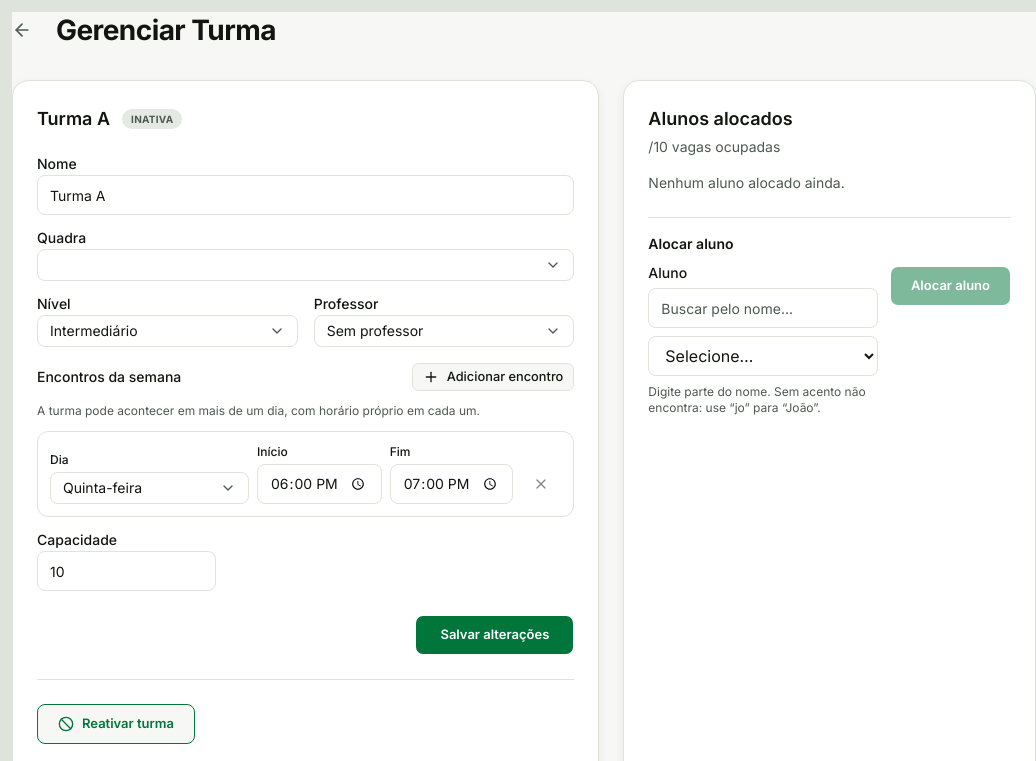
Test case: ClassManager — inativar e reativar › três conflitos: a mensagem diz TRÊS, e não repete a do singular
Step 1. Click the button "Reativar turma" → click(116, 724), box [37, 704, 195, 744]
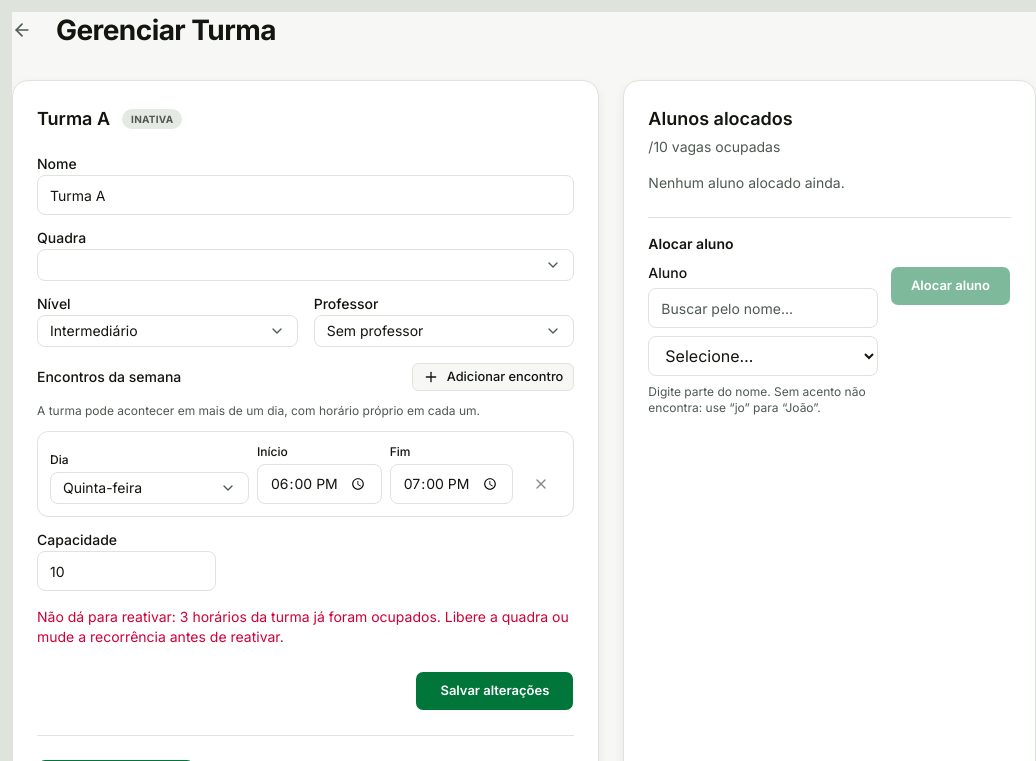
Check: the text "3 horários da turma já foram ocupados" is shown, box [37, 608, 569, 645]
